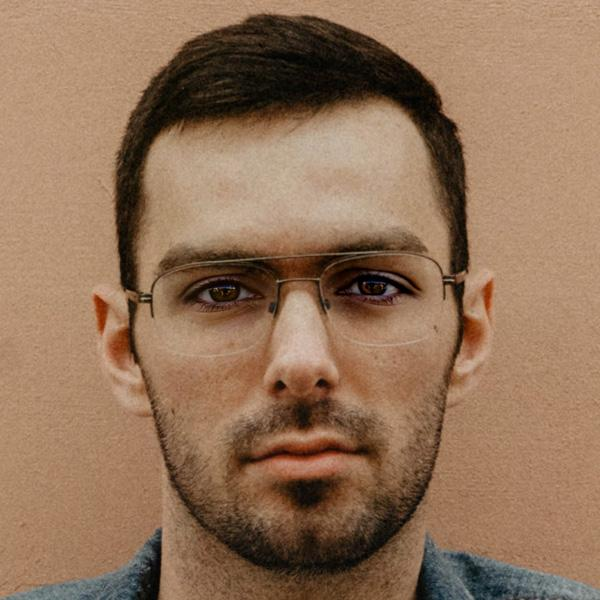Eyes: (172, 262, 275, 324), (324, 261, 422, 315)
